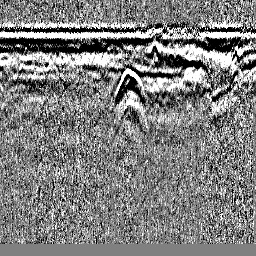cavity: (114, 69, 145, 104)
